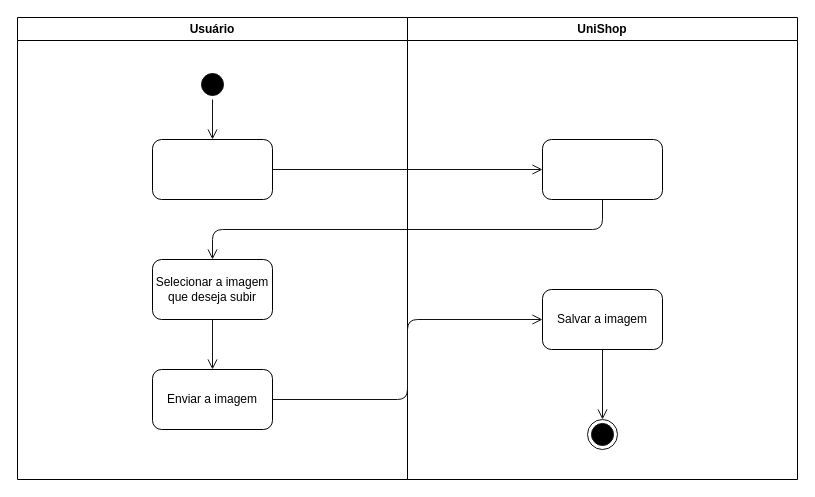
The diagram is 815 pixels wide and 497 high, and some of its shapes have lost their labels. Here are the shapes that lost their labels. From the top down, the box of each, then its label:
(152, 138, 272, 200): Selecionar em carregar imagem
(542, 138, 662, 200): Abrir os documentos interno
